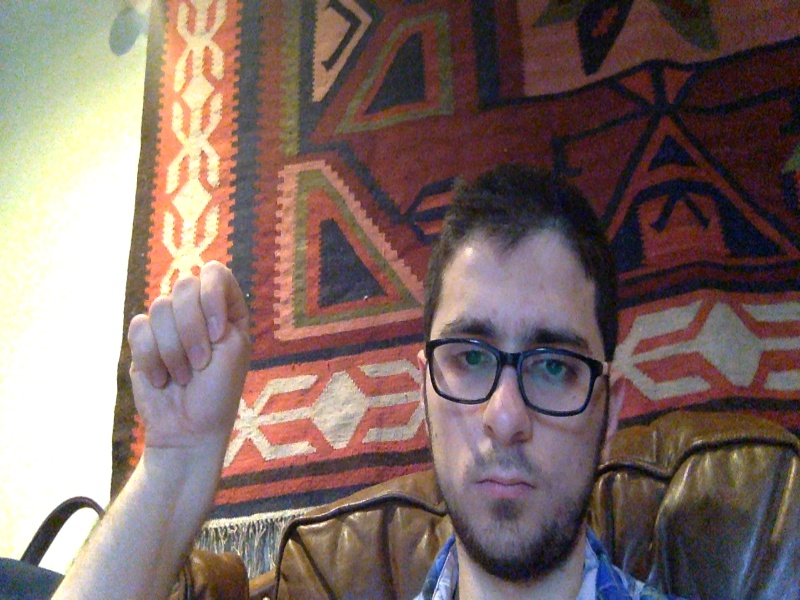0-hand: (126, 262, 250, 455)
